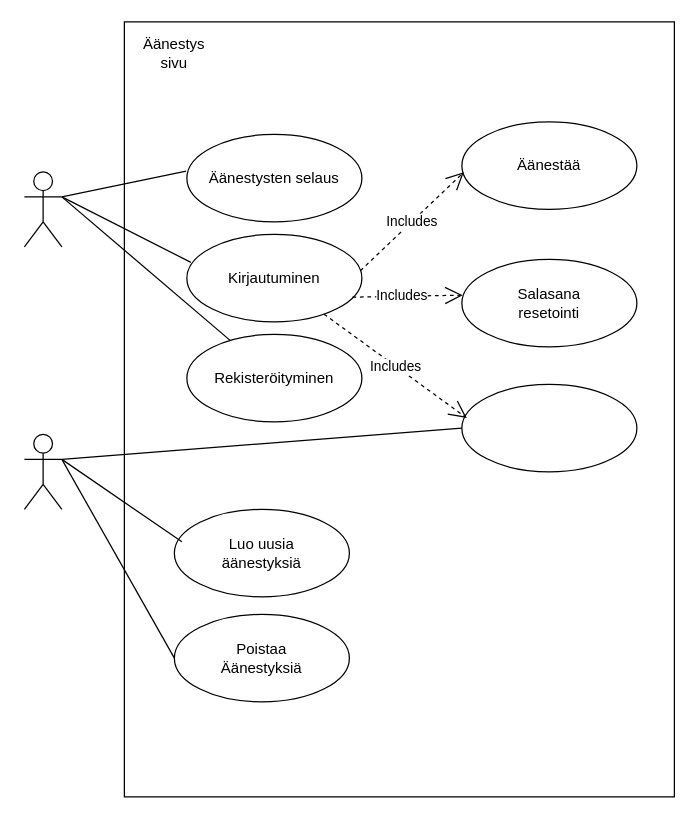
The diagram is 696 pixels wide and 819 high, and some of its shapes have lost their labels. The centre of each missing label's shape, as x and y in pixels:
"Admin" goes at (42,471).
"Tilin poistaminen" goes at (549,427).
"User" goes at (42,209).
